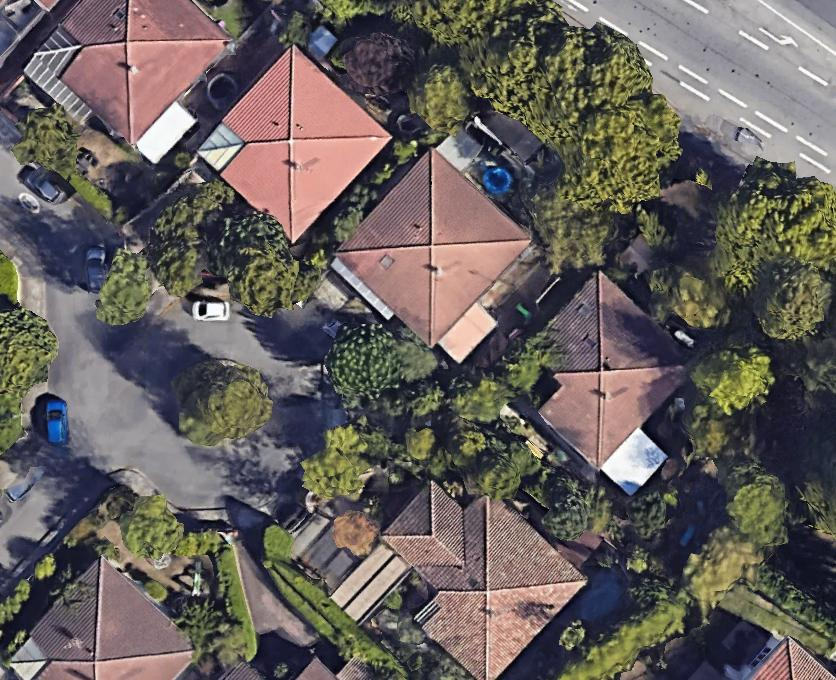maison: (352, 454, 588, 680), (325, 147, 554, 375), (497, 268, 699, 471), (191, 43, 392, 243), (15, 0, 245, 169), (7, 553, 204, 680), (747, 637, 835, 679)
